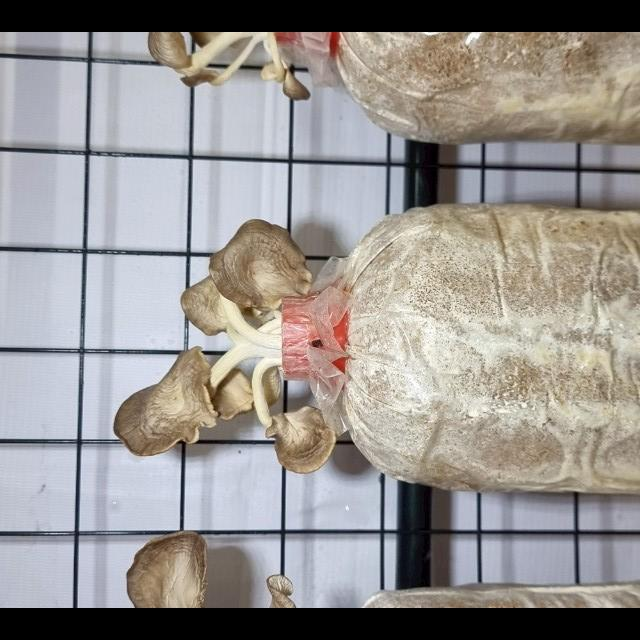abnormal: (113, 344, 290, 459), (240, 350, 348, 482), (210, 215, 318, 322)
